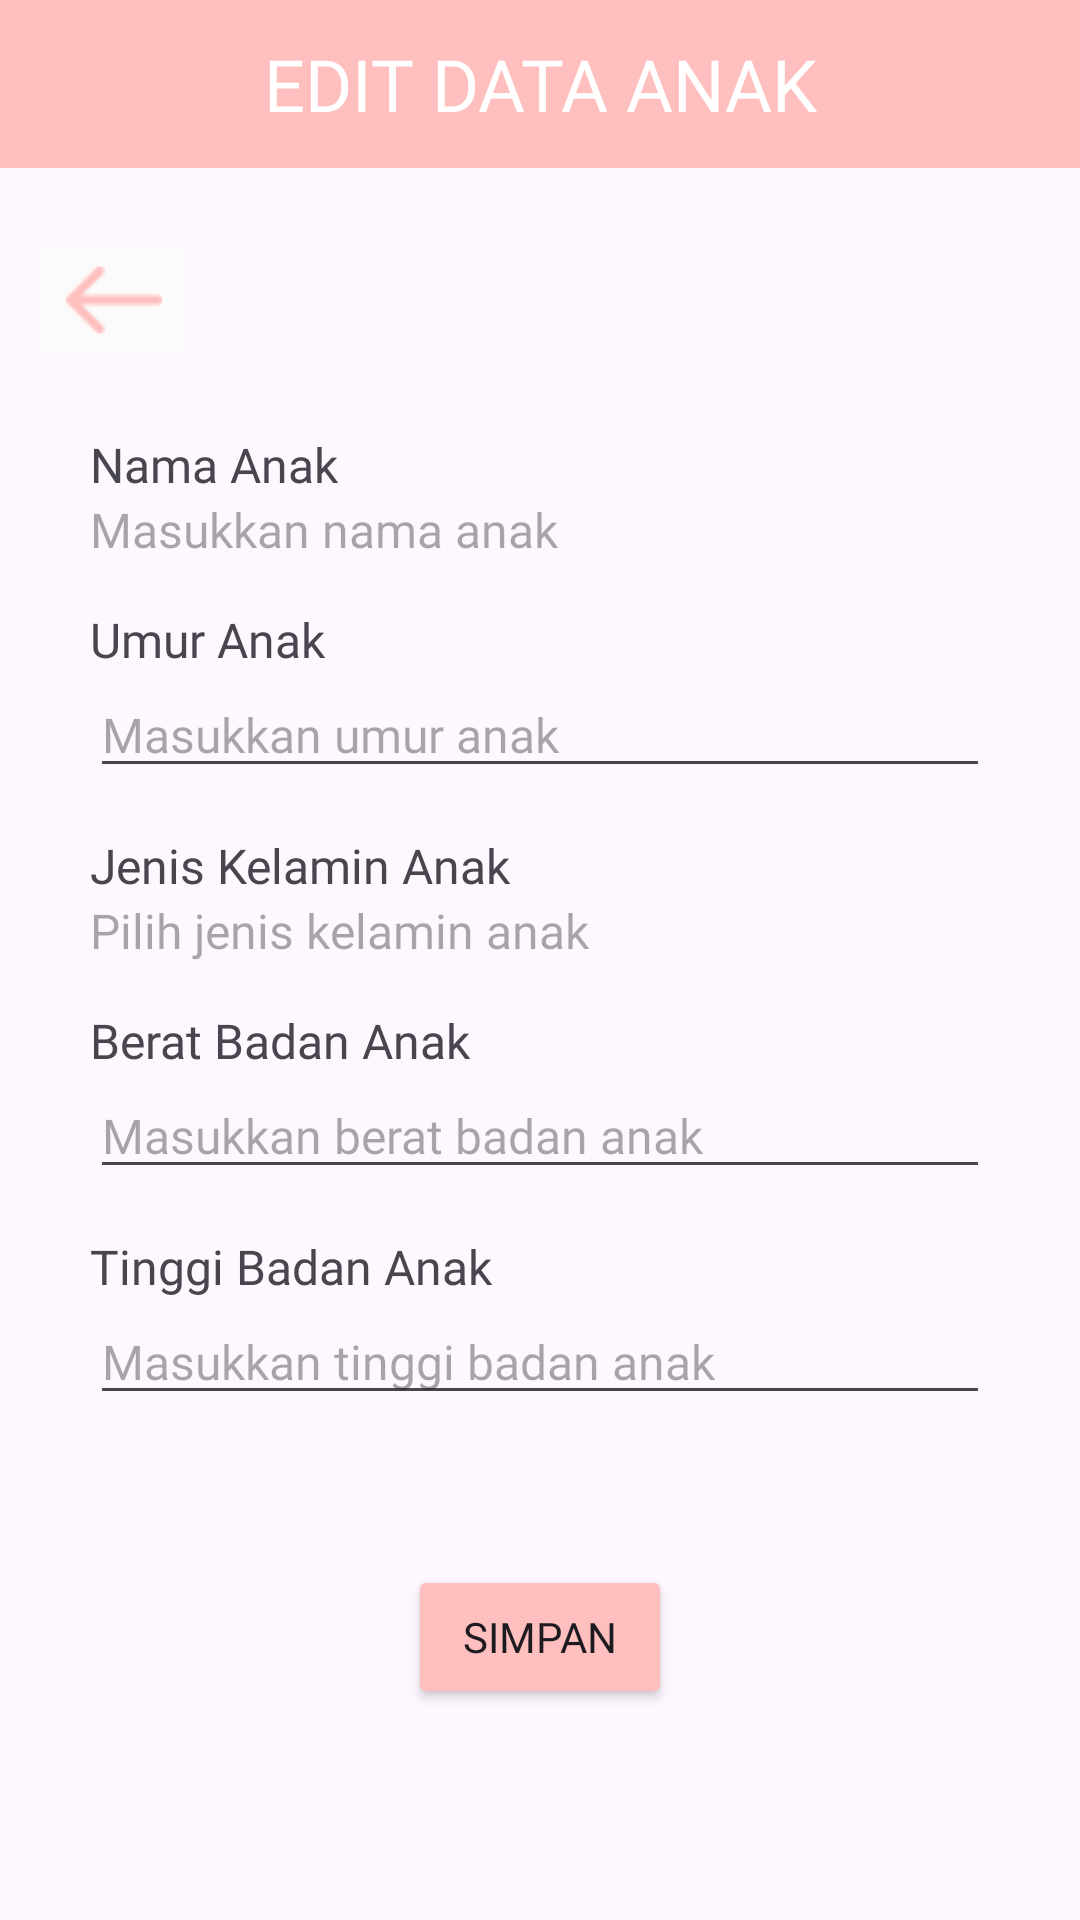

Icon bounding boxes for this 1080*1920 phone screenshot, format (x1, y1, x2, y2):
Back: (66, 266, 162, 334)
